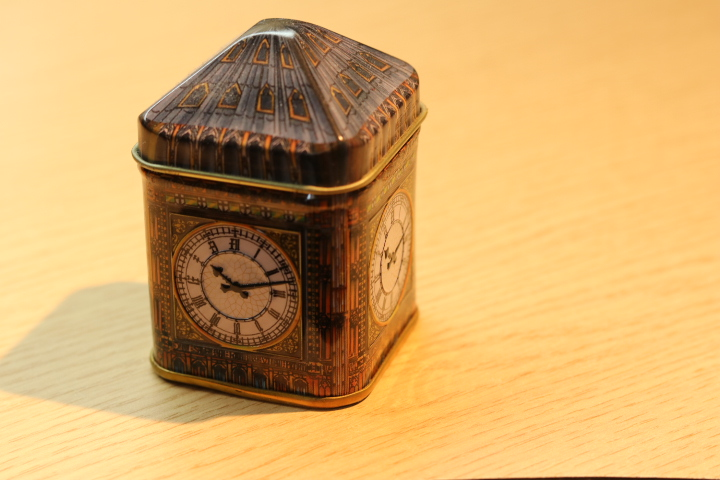Big Ben: (127, 12, 445, 424)
